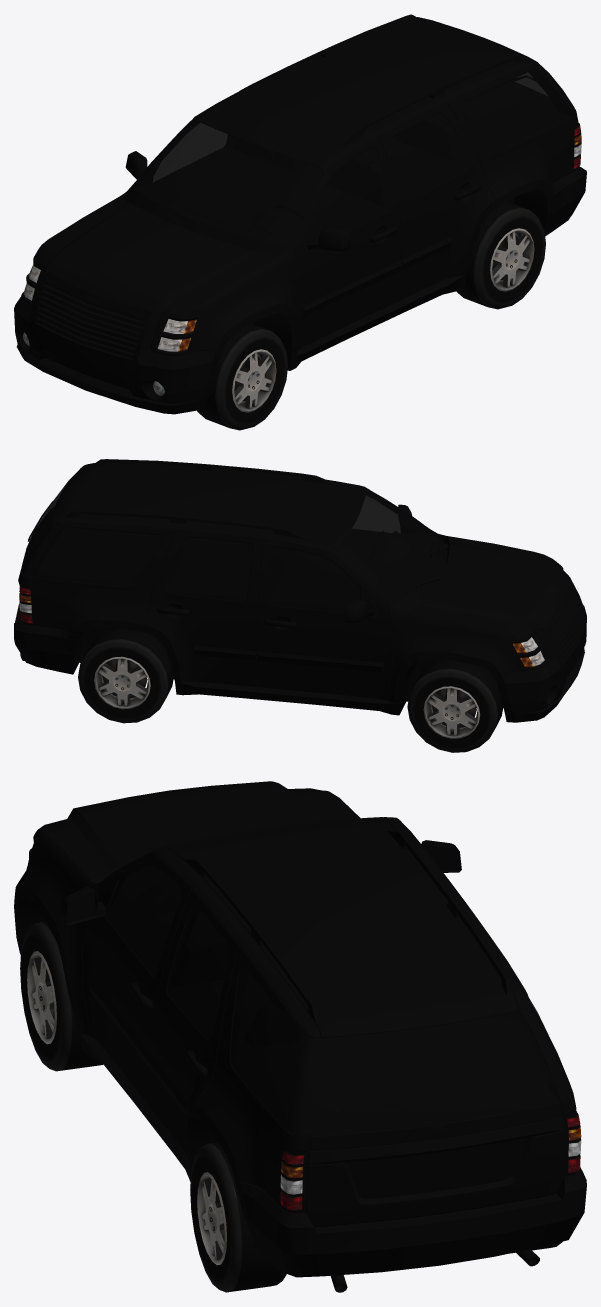
The model's file is MainCar.glb.
The picture shows the model from 3 angles, top to bottom: view 1: azimuth 30°, elevation 25°; view 2: azimuth 150°, elevation 25°; view 3: azimuth 270°, elevation 25°; orthographic projection. The views are drawn at different scales.
Parts seen in each view (by area): view 1: SUV Body, Wheel_E001_Wheel_0.001, Wheel_E_Wheel_0.001; view 2: SUV Body, Wheel_E003_Wheel_0.001, Wheel_E002_Wheel_0.001; view 3: SUV Body, Wheel_E001_Wheel_0.001, Wheel_E_Wheel_0.001.
Part boxes in pixels (x1=…): SUV Body: x1=14, y1=14, x2=586, y2=414; Wheel_E001_Wheel_0.001: x1=456, y1=201, x2=545, y2=309; Wheel_E_Wheel_0.001: x1=197, y1=323, x2=287, y2=430; SUV Body: x1=14, y1=459, x2=586, y2=722; Wheel_E003_Wheel_0.001: x1=78, y1=628, x2=173, y2=723; Wheel_E002_Wheel_0.001: x1=407, y1=660, x2=503, y2=752; SUV Body: x1=14, y1=781, x2=586, y2=1292; Wheel_E001_Wheel_0.001: x1=190, y1=1142, x2=286, y2=1292; Wheel_E_Wheel_0.001: x1=20, y1=921, x2=103, y2=1071.
Size of the model in its own units: 4.65 by 1.73 by 2.84.
Materials: 5 (3 with a texture image).
